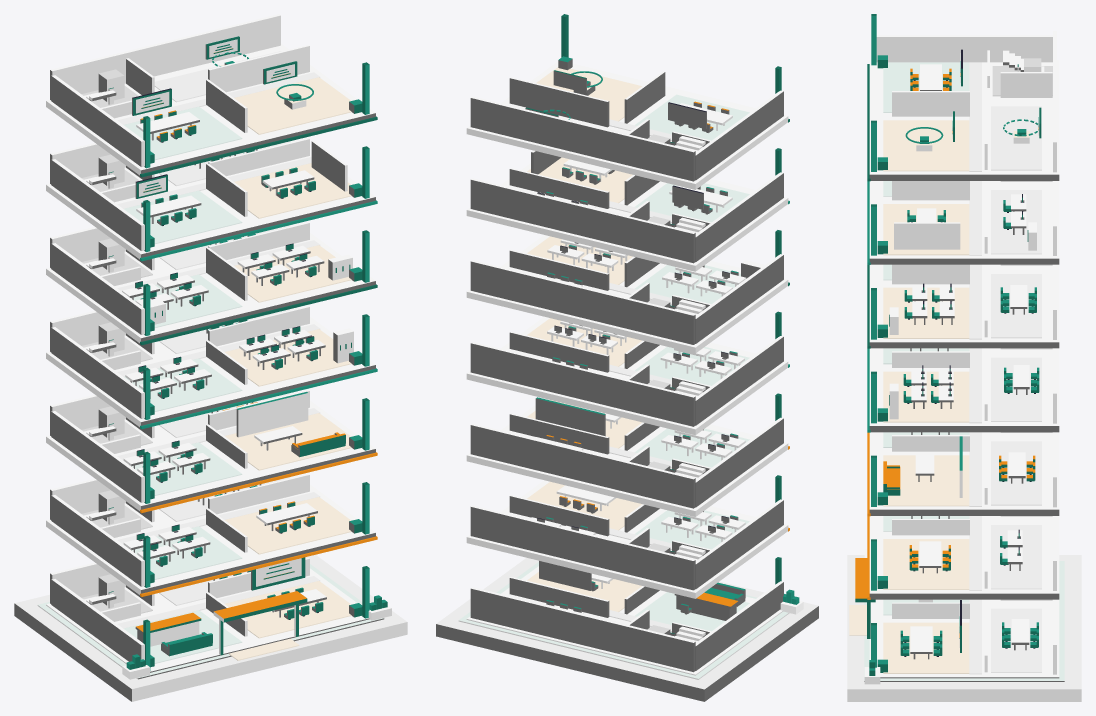
Rendered from toa-nha-7-tang.glb.
3 views of the same model, side by side, from view 1: azimuth 30°, elevation 25°; view 2: azimuth 150°, elevation 25°; view 3: azimuth 270°, elevation 25° (orthographic). The views are drawn at different scales.
Visible parts, largest first — view 1: T07 · Điều hành & giám sát, T06 · Nhân sự – Hành chính, T04 · Phát triển phần mềm, T05 · Kế toán, T03 · Marketing – Truyền thông, T02 · Kinh doanh, T01 · Sảnh & demo sản phẩm, MdFlexCom; view 2: T07 · Điều hành & giám sát, T05 · Kế toán, T06 · Nhân sự – Hành chính, T03 · Marketing – Truyền thông, T04 · Phát triển phần mềm, T02 · Kinh doanh, T01 · Sảnh & demo sản phẩm, MdFlexCom; view 3: T07 · Điều hành & giám sát, T04 · Phát triển phần mềm, T05 · Kế toán, T03 · Marketing – Truyền thông, T02 · Kinh doanh, T06 · Nhân sự – Hành chính, T01 · Sảnh & demo sản phẩm, MdFlexCom.
Part boxes in pixels (box(x1,y1,x2,y2)): T07 · Điều hành & giám sát: box(46, 14, 377, 177); T06 · Nhân sự – Hành chính: box(46, 138, 377, 261); T04 · Phát triển phần mềm: box(46, 306, 377, 429); T05 · Kế toán: box(46, 222, 377, 345); T03 · Marketing – Truyền thông: box(46, 390, 377, 513); T02 · Kinh doanh: box(46, 474, 377, 596); T01 · Sảnh & demo sản phẩm: box(46, 557, 369, 672); MdFlexCom: box(14, 555, 407, 701); T07 · Điều hành & giám sát: box(466, 14, 789, 189); T05 · Kế toán: box(466, 230, 789, 353); T06 · Nhân sự – Hành chính: box(466, 148, 789, 271); T03 · Marketing – Truyền thông: box(466, 393, 789, 516); T04 · Phát triển phần mềm: box(466, 311, 789, 435); T02 · Kinh doanh: box(466, 475, 789, 598); T01 · Sảnh & demo sản phẩm: box(466, 557, 783, 675); MdFlexCom: box(436, 557, 818, 701); T07 · Điều hành & giám sát: box(867, 14, 1059, 181); T04 · Phát triển phần mềm: box(867, 348, 1059, 432); T05 · Kế toán: box(867, 264, 1059, 348); T03 · Marketing – Truyền thông: box(867, 432, 1059, 516); T02 · Kinh doanh: box(867, 516, 1059, 599); T06 · Nhân sự – Hành chính: box(867, 181, 1059, 264); T01 · Sảnh & demo sản phẩm: box(855, 558, 1059, 678); MdFlexCom: box(847, 549, 1081, 701).
Bounding box in the file's own units: 12.2 × 24.02 × 9.
